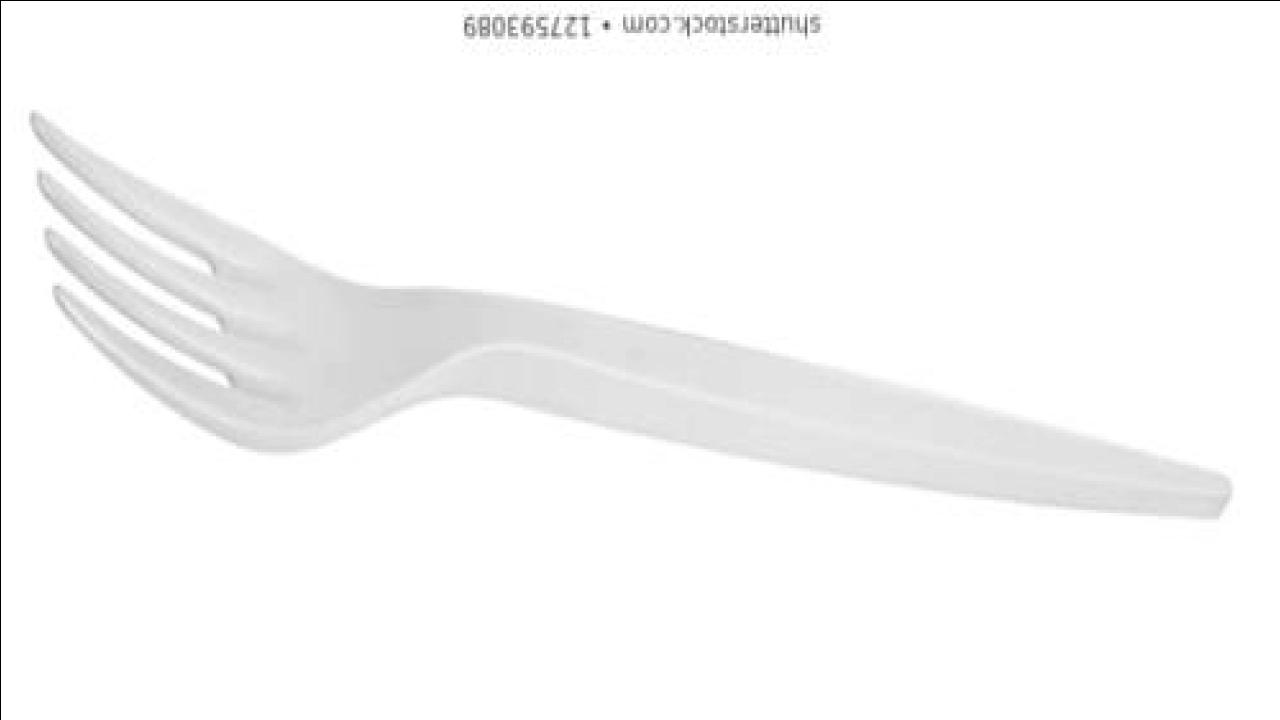fork: (28, 112, 1234, 528)
